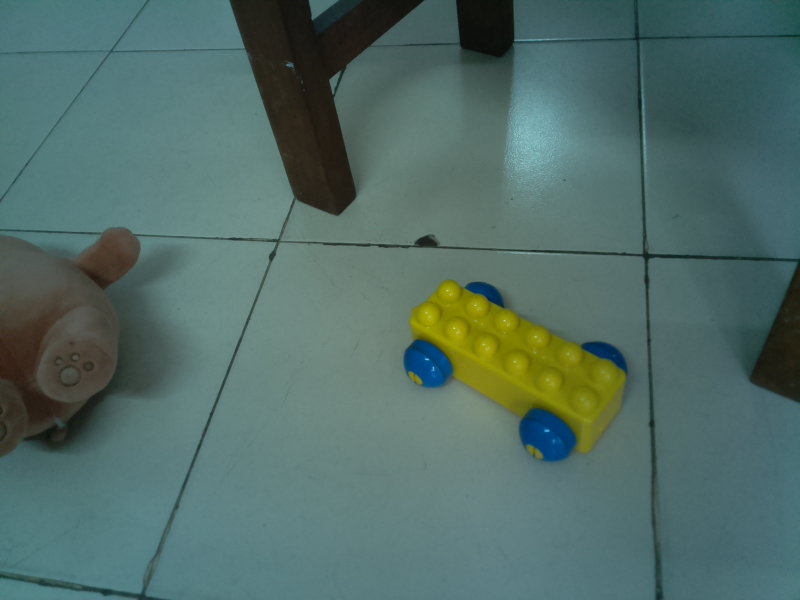toy_Car: (399, 278, 632, 467)
